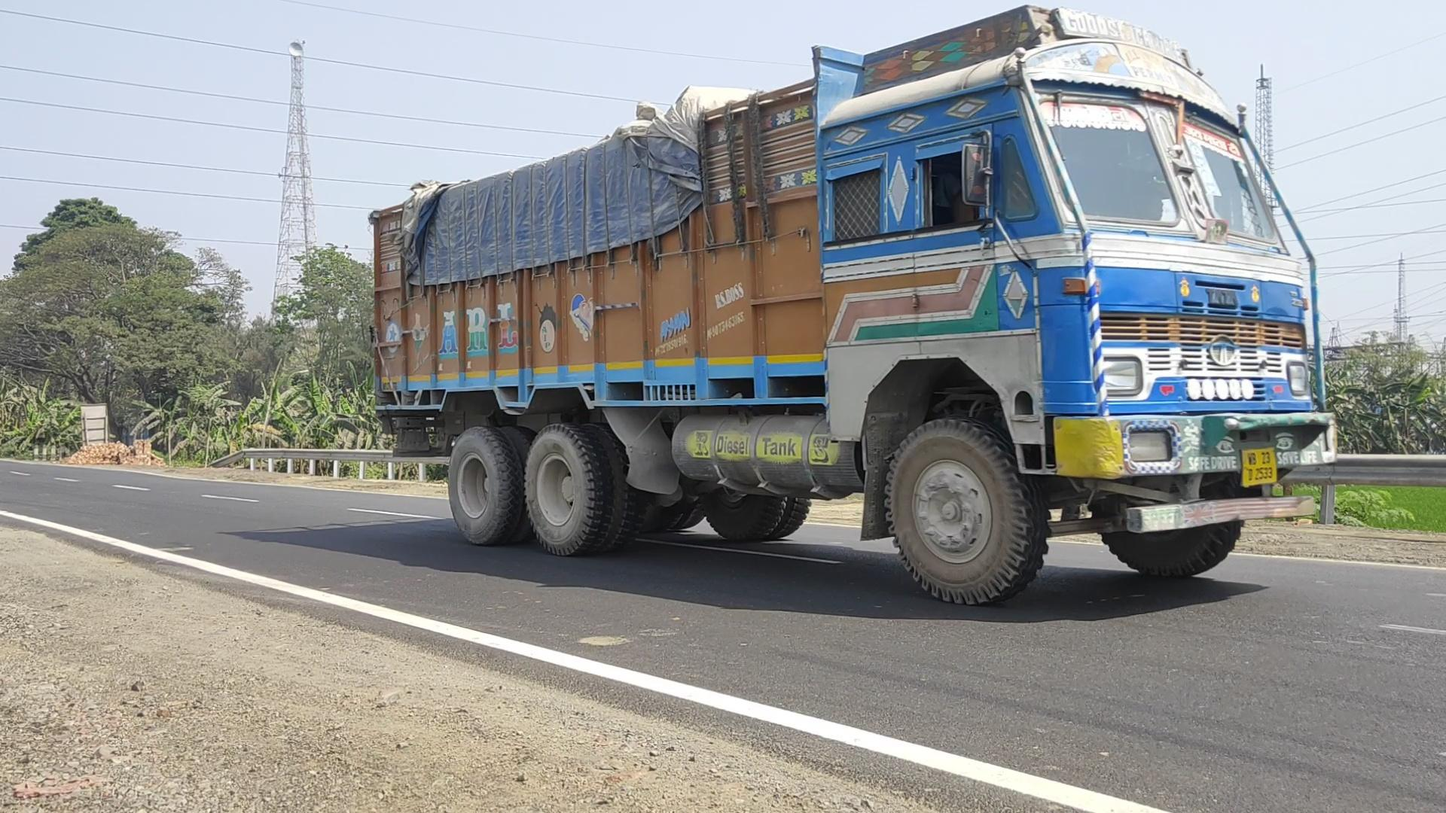truck: (369, 5, 1338, 607)
